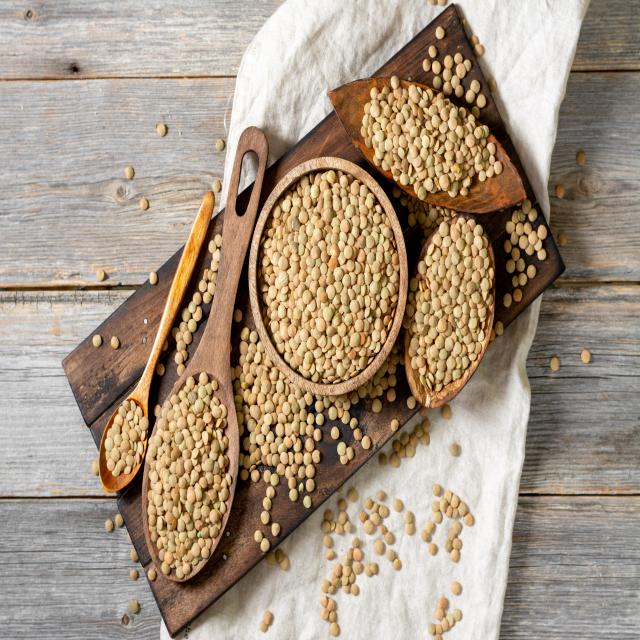lentejas: (255, 151, 398, 386), (354, 60, 506, 215), (144, 368, 240, 581)
